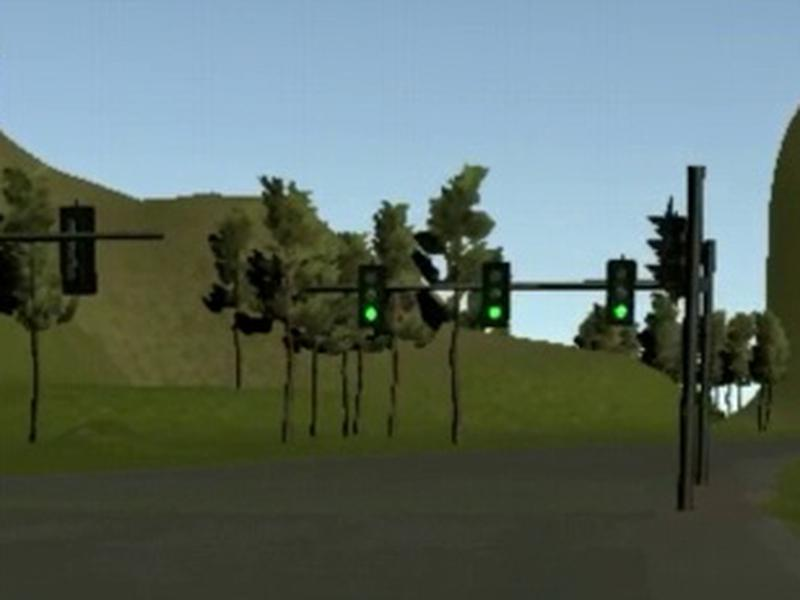Green: (482, 261, 510, 328), (607, 259, 634, 326), (357, 264, 386, 326)
